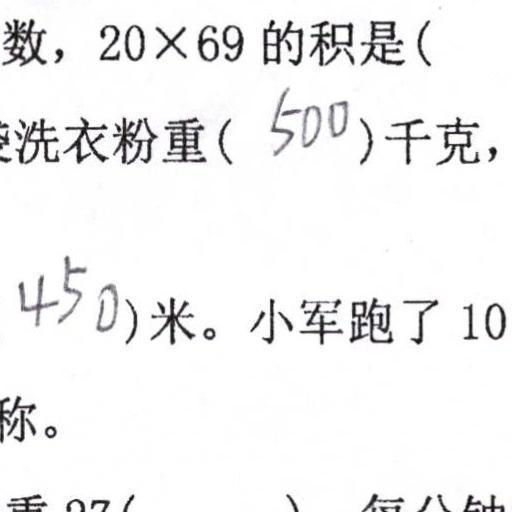ans: (11, 251, 119, 334), (264, 82, 350, 155)
